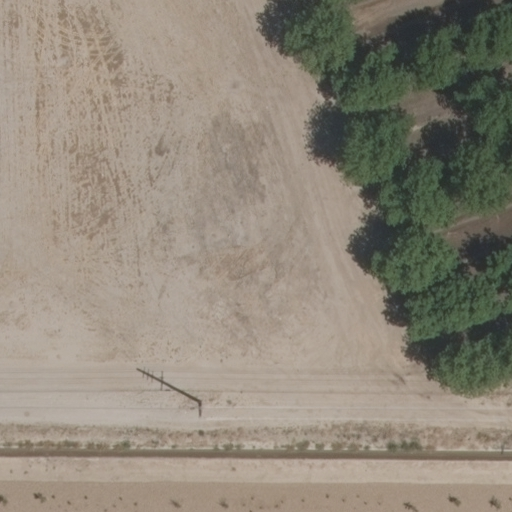DT: (189, 395, 209, 420)
